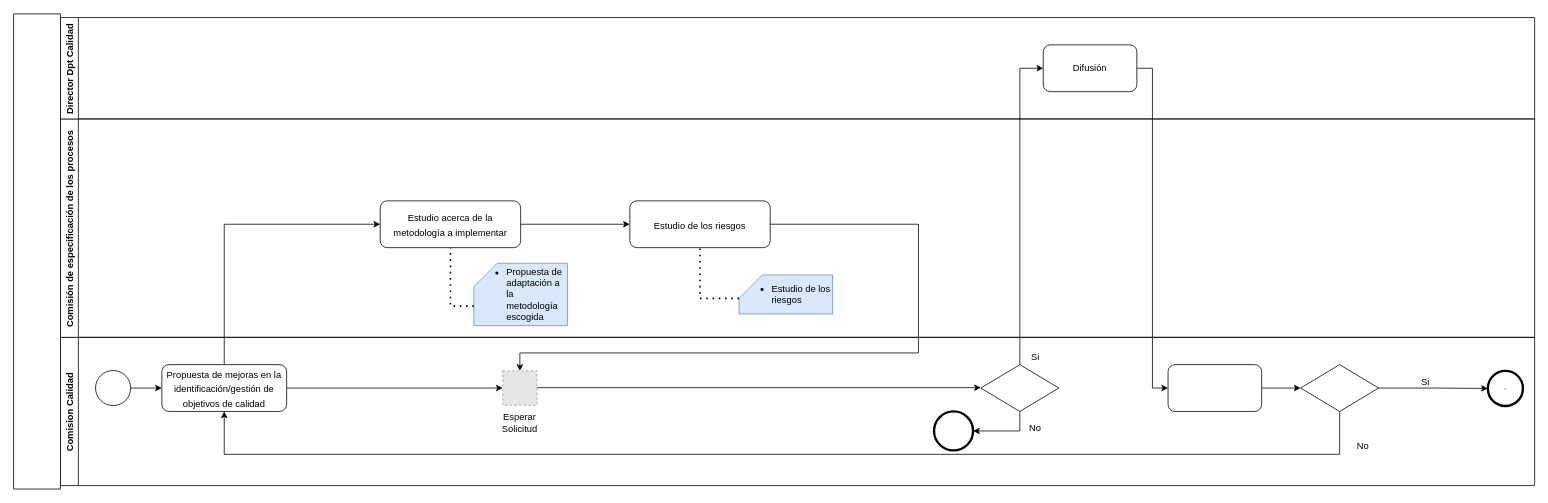
Image size: 1548x503. Some labels were removed from this diagram. Grey dashed boxes stand in for pictures. The centre of each missing label's shape, as x and y in pixels:
Evaluación de resultados: (1214,387)
Implementación de metodología y gestión de riesgos: (37,251)
¿Esta bien?: (1339,387)
¿Se aprueba?: (1019,387)
